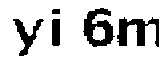6: (78, 3, 115, 52)
i: (46, 6, 66, 53)
m: (115, 14, 160, 51)
y: (9, 14, 45, 59)
